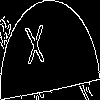X: (25, 25, 46, 74)
